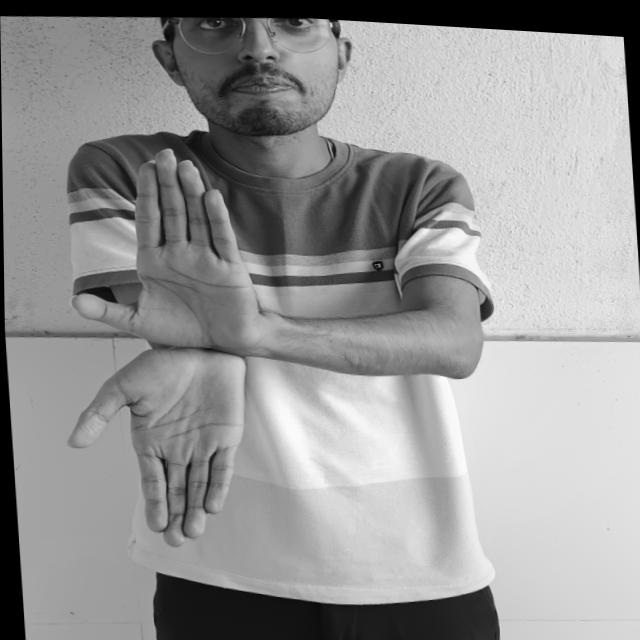Morning: (46, 129, 324, 580)
